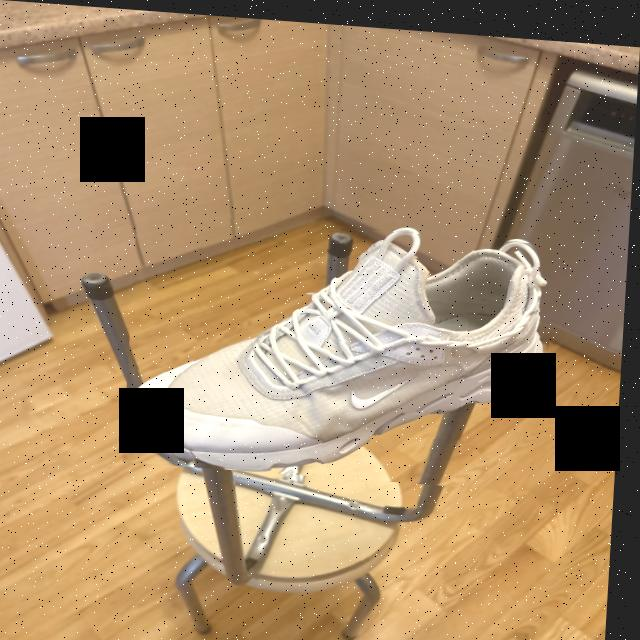shoe: (128, 209, 560, 484)
